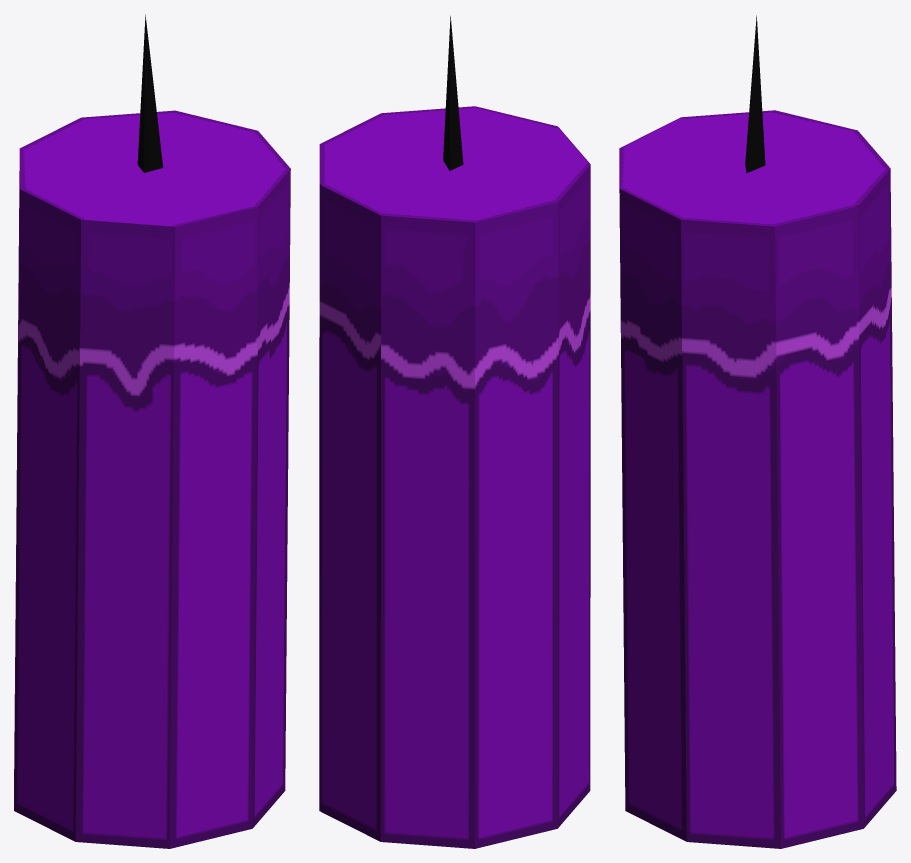
File: candle.fbx
The picture shows the model from 3 angles, left to right: view 1: azimuth 30°, elevation 25°; view 2: azimuth 150°, elevation 25°; view 3: azimuth 270°, elevation 25°; orthographic projection.
Parts seen in each view (by area): view 1: Cylinder; view 2: Cylinder; view 3: Cylinder.
Part boxes in pixels (box(x1,y1,x2,y2)): Cylinder: box(14, 14, 290, 848); Cylinder: box(319, 16, 590, 848); Cylinder: box(619, 15, 896, 848).
Bounding box in the file's own units: 199 × 613 × 198.
1 material, 1 textured.
